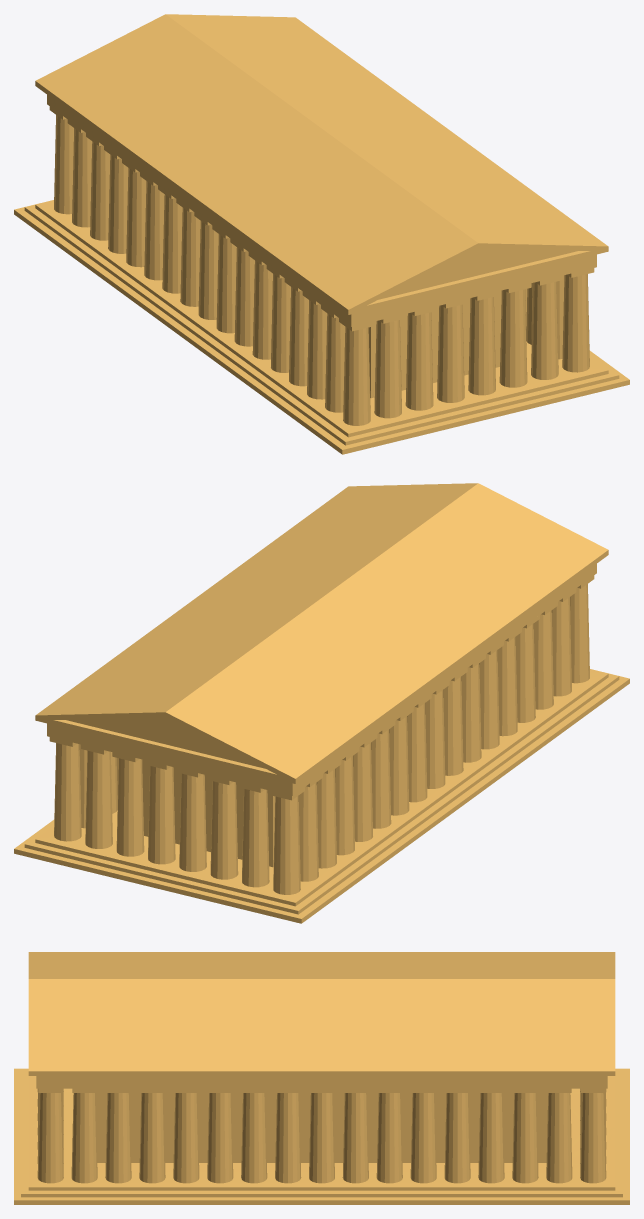
Rendered from parth.glb.
3 renders of one model, top to bottom at view 1: azimuth 30°, elevation 25°; view 2: azimuth 150°, elevation 25°; view 3: azimuth 270°, elevation 25°, orthographic. The views are drawn at different scales.
Parts seen in each view (by area): view 1: Object_2; view 2: Object_2; view 3: Object_2.
Boxes of the visible parts, <box> form: Object_2: <box>14,14,629,454</box>; Object_2: <box>14,483,629,923</box>; Object_2: <box>14,952,629,1204</box>.
Bounding box in the file's own units: 2.63 × 1.49 × 5.2.
